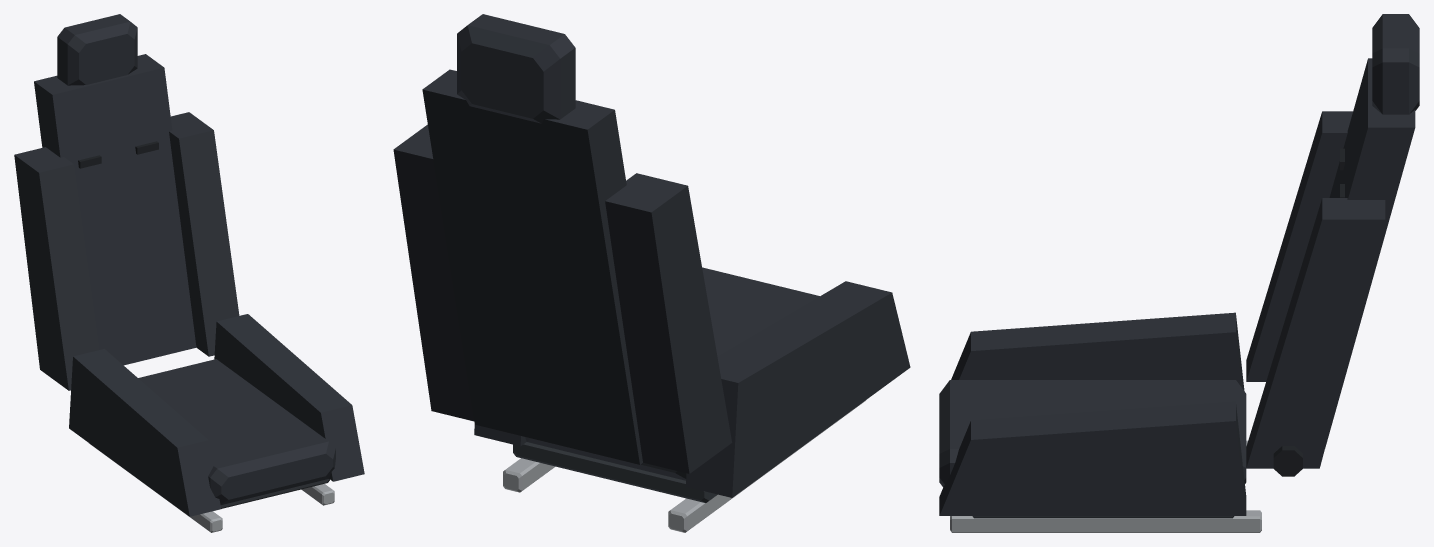
The model's file is kaze_gt.glb.
3 renders of one model, left to right at view 1: azimuth 30°, elevation 25°; view 2: azimuth 150°, elevation 25°; view 3: azimuth 270°, elevation 25°, orthographic. The views are drawn at different scales.
Parts seen in each view (by area): view 1: model; view 2: model; view 3: model.
Part boxes in pixels (left/top/right/bottom): model: left=14, top=14, right=364, bottom=532; model: left=393, top=14, right=910, bottom=532; model: left=939, top=14, right=1419, bottom=532.
Bounding box in the file's own units: 0.5088 × 0.976 × 0.9151.
3 materials, 1 textured.
